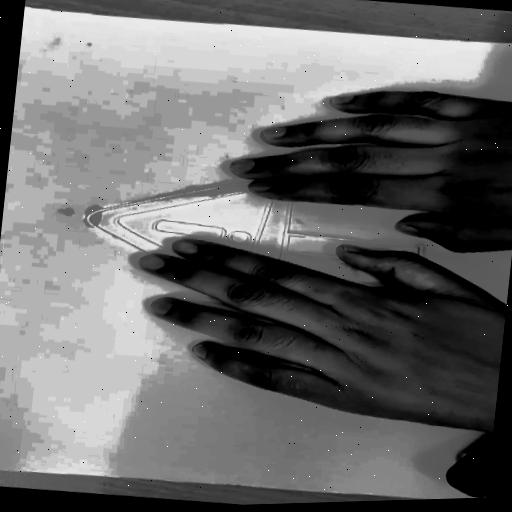signboard: (65, 140, 446, 324)
